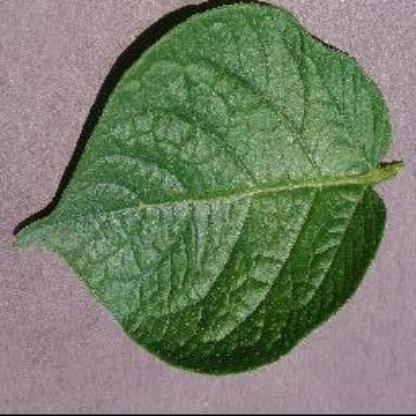Healthy-plant: (11, 16, 404, 376)
